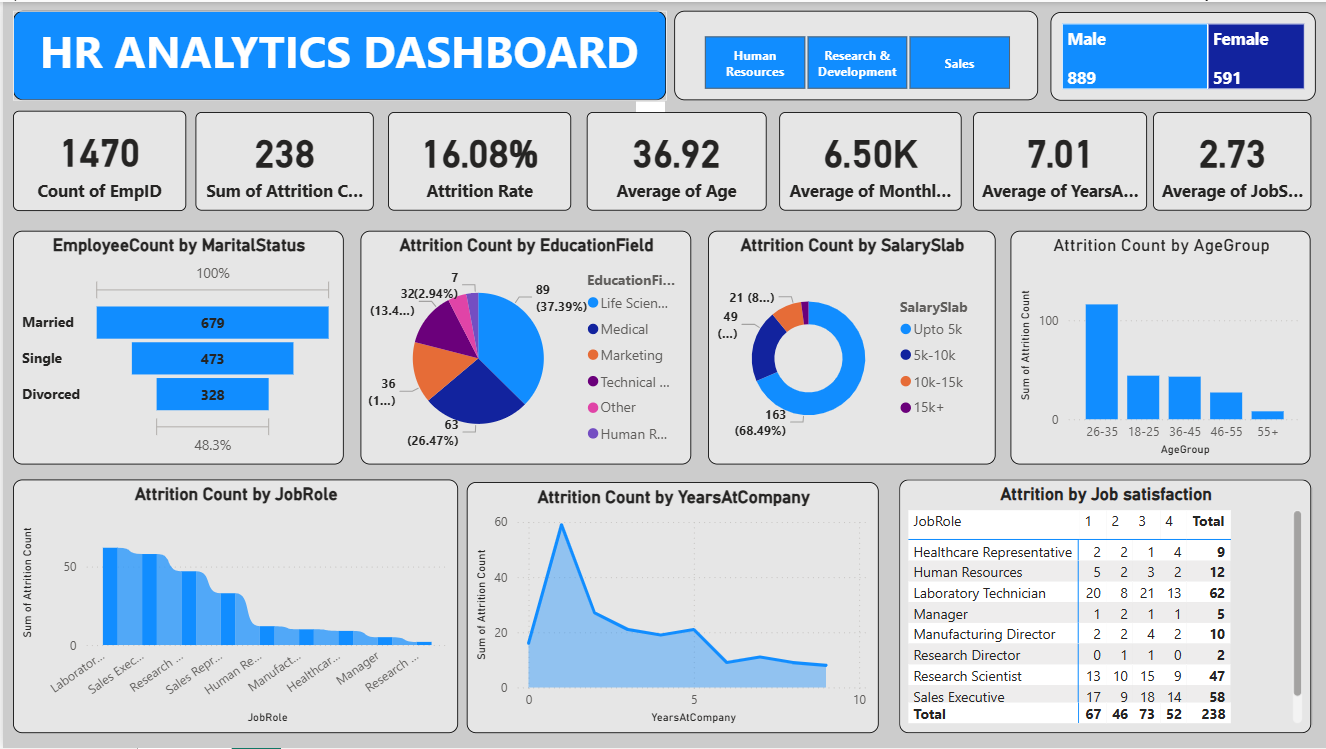

The page's visual inventory and layout, read from the dashboard file:
{"tool":"powerbi","page":{"name":"Page 1","canvas":[1280,720],"ordinal":0},"visuals":[{"type":"textbox","box":[10,8.8,630.1,86.6],"z":0},{"type":"card","fields":{"Values":["Count(HR_Analytics.EmpID)"]},"box":[10,105.4,166.9,96.6],"z":1000},{"type":"card","fields":{"Values":["Sum(HR_Analytics.Attrition Count )"]},"box":[185.8,106.7,172,95.4],"z":2000},{"type":"card","fields":{"Values":["HR_Analytics.Attrition Rate"]},"box":[371.5,106.7,177,95.4],"z":3000},{"type":"card","fields":{"Values":["Avg(HR_Analytics.Age)"]},"box":[563.6,106.7,173.2,95.4],"z":4000},{"type":"card","fields":{"Values":["Avg(HR_Analytics.MonthlyIncome)"]},"box":[749.3,106.7,175.7,95.4],"z":5000},{"type":"card","fields":{"Values":["Avg(HR_Analytics.YearsAtCompany)"]},"box":[936.3,106.7,168.2,95.4],"z":6000},{"type":"card","fields":{"Values":["Avg(HR_Analytics.JobSatisfaction)"]},"box":[1109.6,106.7,153.1,95.4],"z":7000},{"type":"funnel","title":"EmployeeCount by MaritalStatus","fields":{"Category":["HR_Analytics.MaritalStatus"],"Y":["Sum(HR_Analytics.EmployeeCount)"]},"box":[10,220.9,318.8,225.9],"z":8000},{"type":"pieChart","title":"Attrition Count by EducationField","fields":{"Category":["HR_Analytics.EducationField"],"Y":["Sum(HR_Analytics.Attrition Count )"]},"box":[345.2,220.9,318.8,225.9],"z":9000},{"type":"donutChart","title":"Attrition Count  by SalarySlab","fields":{"Category":["HR_Analytics.SalarySlab"],"Y":["Sum(HR_Analytics.Attrition Count )"]},"box":[680.3,220.9,277.4,225.9],"z":10000},{"type":"columnChart","title":"Attrition Count  by AgeGroup","fields":{"Category":["HR_Analytics.AgeGroup"],"Y":["Sum(HR_Analytics.Attrition Count )"]},"box":[972.7,220.9,289.9,225.9],"z":11000},{"type":"ribbonChart","title":"Attrition Count  by JobRole","fields":{"Category":["HR_Analytics.JobRole"],"Y":["Sum(HR_Analytics.Attrition Count )"]},"box":[10,460.6,429.3,244.8],"z":12000},{"type":"areaChart","title":"Attrition Count  by YearsAtCompany","fields":{"Category":["HR_Analytics.YearsAtCompany"],"Y":["Sum(HR_Analytics.Attrition Count )"]},"box":[448.1,463.2,397.9,242.2],"z":13000},{"type":"pivotTable","title":"Attrition by Job satisfaction ","fields":{"Rows":["HR_Analytics.JobRole"],"Values":["Sum(HR_Analytics.Attrition Count )"],"Columns":["HR_Analytics.JobSatisfaction"]},"box":[864.8,460.6,397.9,244.8],"z":14000},{"type":"slicer","fields":{"Values":["HR_Analytics.Department"]},"box":[647.7,8.8,351.4,86.6],"z":15000},{"type":"treemap","fields":{"Group":["HR_Analytics.Gender"],"Values":["Sum(HR_Analytics.EmployeeCount)"]},"box":[1010.4,10,256.1,85.4],"z":16000}]}

Visuals, with their boxes in screenshot pixels (x1, y1, x2, y2), scaled from the page's 1280x720 canvas onto the 1326x749 screenshot:
textbox: region(10, 9, 663, 99)
card - Count(HR_Analytics.EmpID): region(10, 110, 183, 210)
card - Sum(HR_Analytics.Attrition Count ): region(192, 111, 371, 210)
card - HR_Analytics.Attrition Rate: region(385, 111, 568, 210)
card - Avg(HR_Analytics.Age): region(584, 111, 763, 210)
card - Avg(HR_Analytics.MonthlyIncome): region(776, 111, 958, 210)
card - Avg(HR_Analytics.YearsAtCompany): region(970, 111, 1144, 210)
card - Avg(HR_Analytics.JobSatisfaction): region(1149, 111, 1308, 210)
"EmployeeCount by MaritalStatus" funnel: region(10, 230, 341, 465)
"Attrition Count by EducationField" pieChart: region(358, 230, 688, 465)
"Attrition Count  by SalarySlab" donutChart: region(705, 230, 992, 465)
"Attrition Count  by AgeGroup" columnChart: region(1008, 230, 1308, 465)
"Attrition Count  by JobRole" ribbonChart: region(10, 479, 455, 734)
"Attrition Count  by YearsAtCompany" areaChart: region(464, 482, 876, 734)
"Attrition by Job satisfaction " pivotTable: region(896, 479, 1308, 734)
slicer - HR_Analytics.Department: region(671, 9, 1035, 99)
treemap - HR_Analytics.Gender x Sum(HR_Analytics.EmployeeCount): region(1047, 10, 1312, 99)
